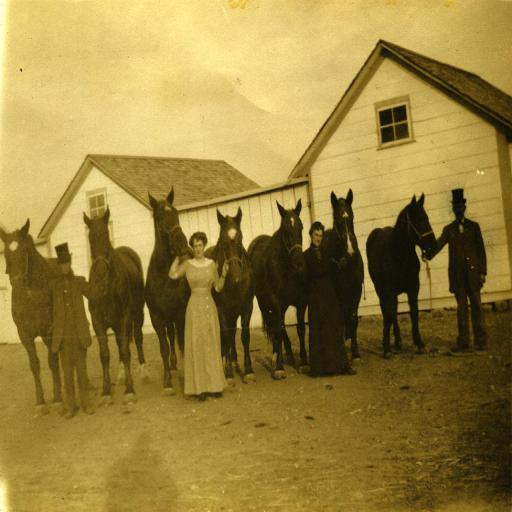horse: (0, 220, 72, 418), (88, 202, 154, 409), (365, 191, 438, 363), (144, 182, 198, 400), (303, 186, 364, 370), (248, 197, 308, 383), (204, 206, 258, 396)
